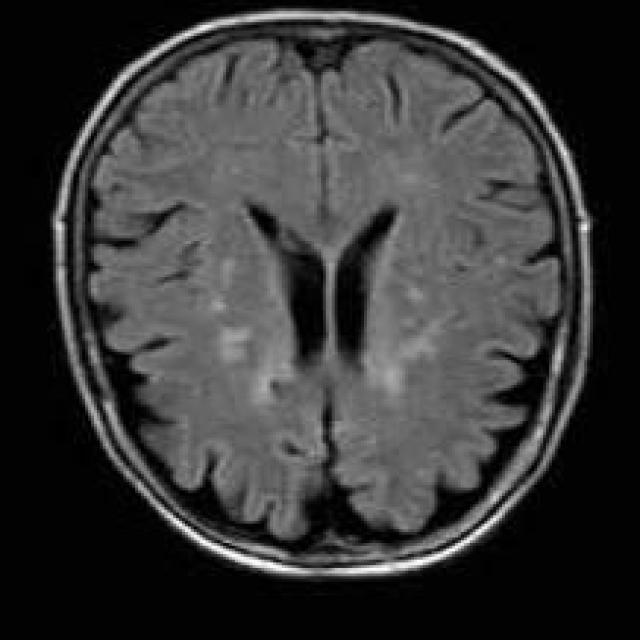notumor: (53, 8, 590, 574)
